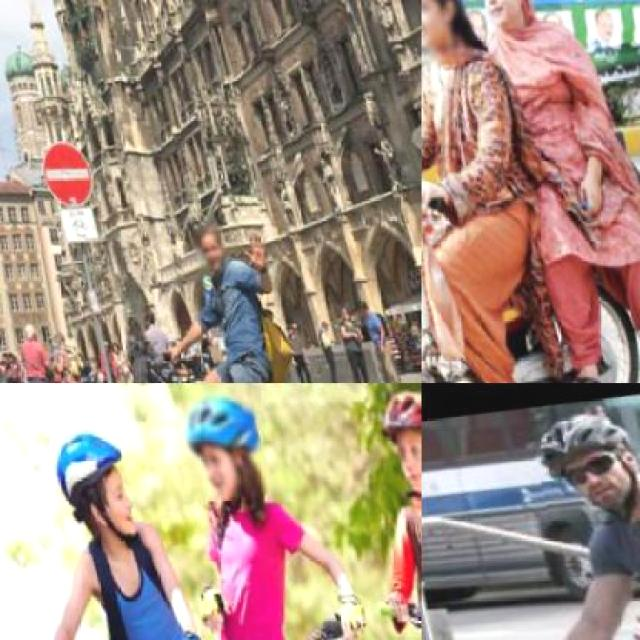With Helmet: (30, 412, 156, 562), (523, 396, 639, 530), (168, 383, 274, 503), (363, 383, 420, 512)
Without Helmet: (421, 0, 477, 69), (463, 0, 541, 38), (185, 212, 229, 271)
